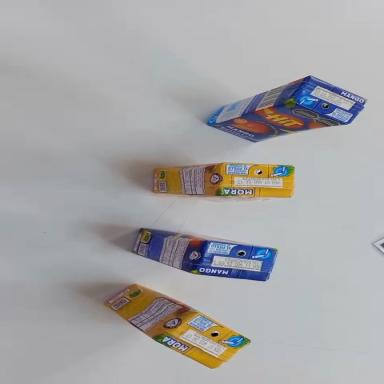HIT-MANGO: (202, 66, 370, 151), (130, 227, 278, 286)
HIT-MORA: (101, 270, 251, 381), (152, 157, 295, 202)
cara_F: (210, 92, 348, 151), (144, 224, 276, 254)
